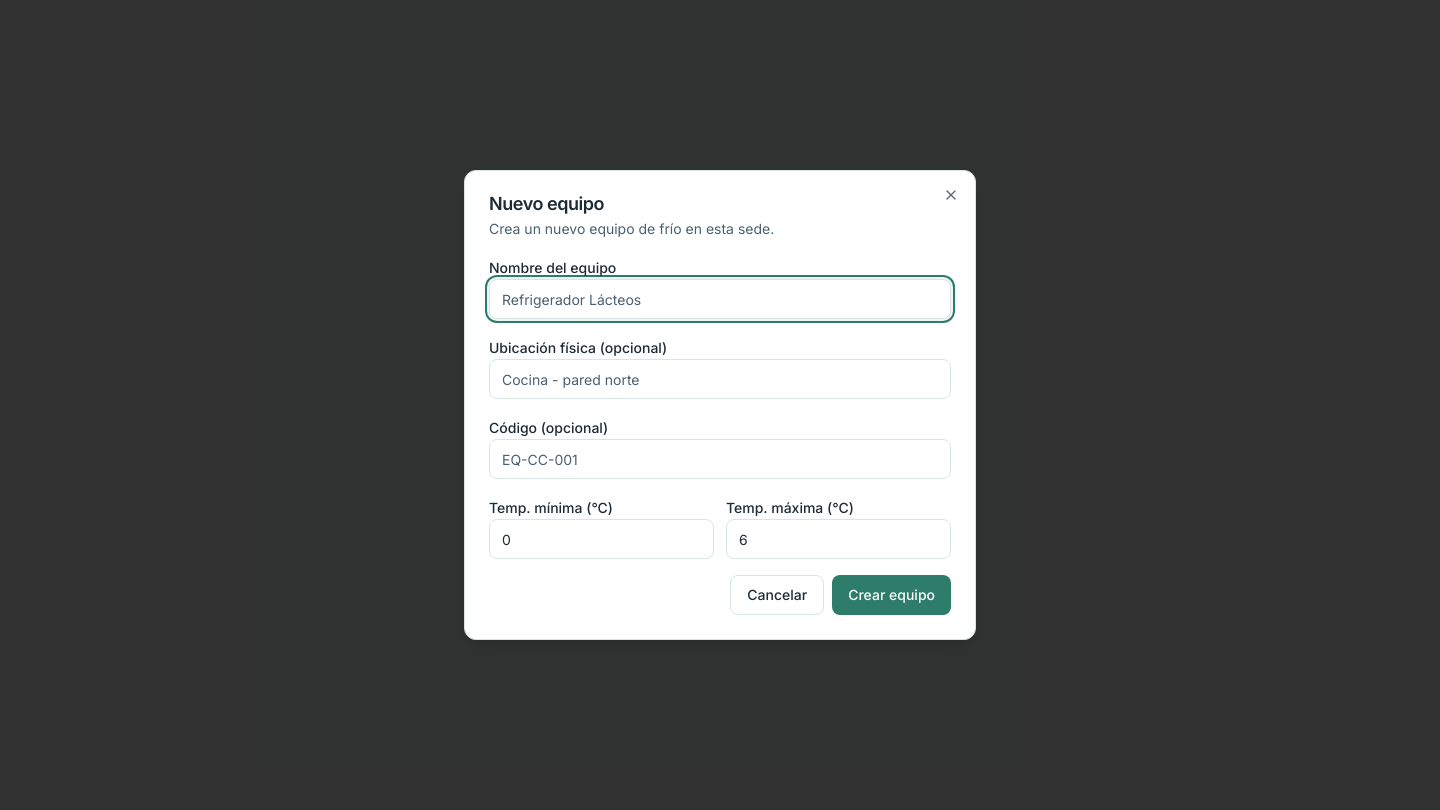
Test: EquipmentFormDialog - create mode › shows validation error when name is too short
The image size is (1440, 810).
In the field labelled "Nombre del equipo": (720, 299) [489,279,951,319], type "R"
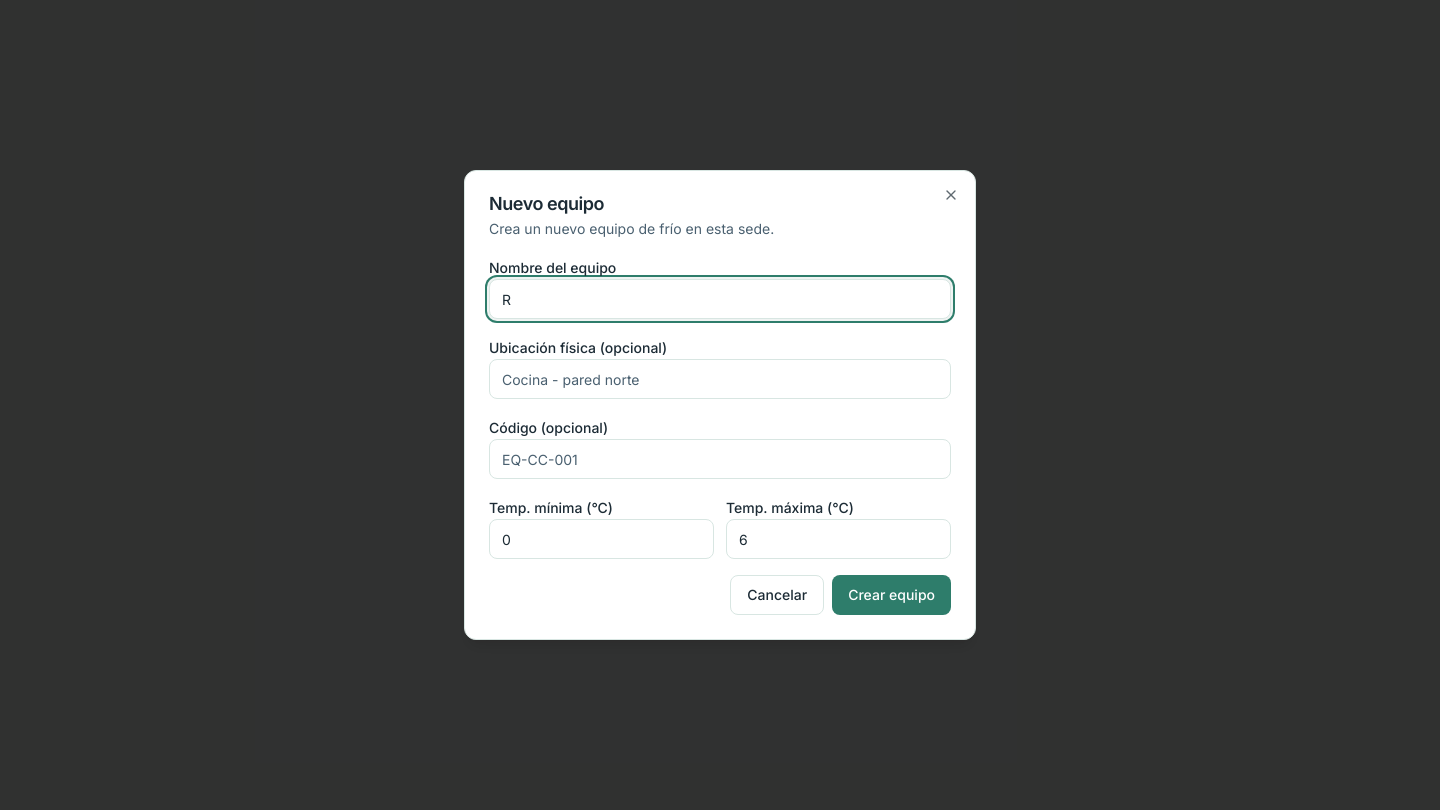
Click the button "Crear equipo": (892, 595) [832,575,951,615]
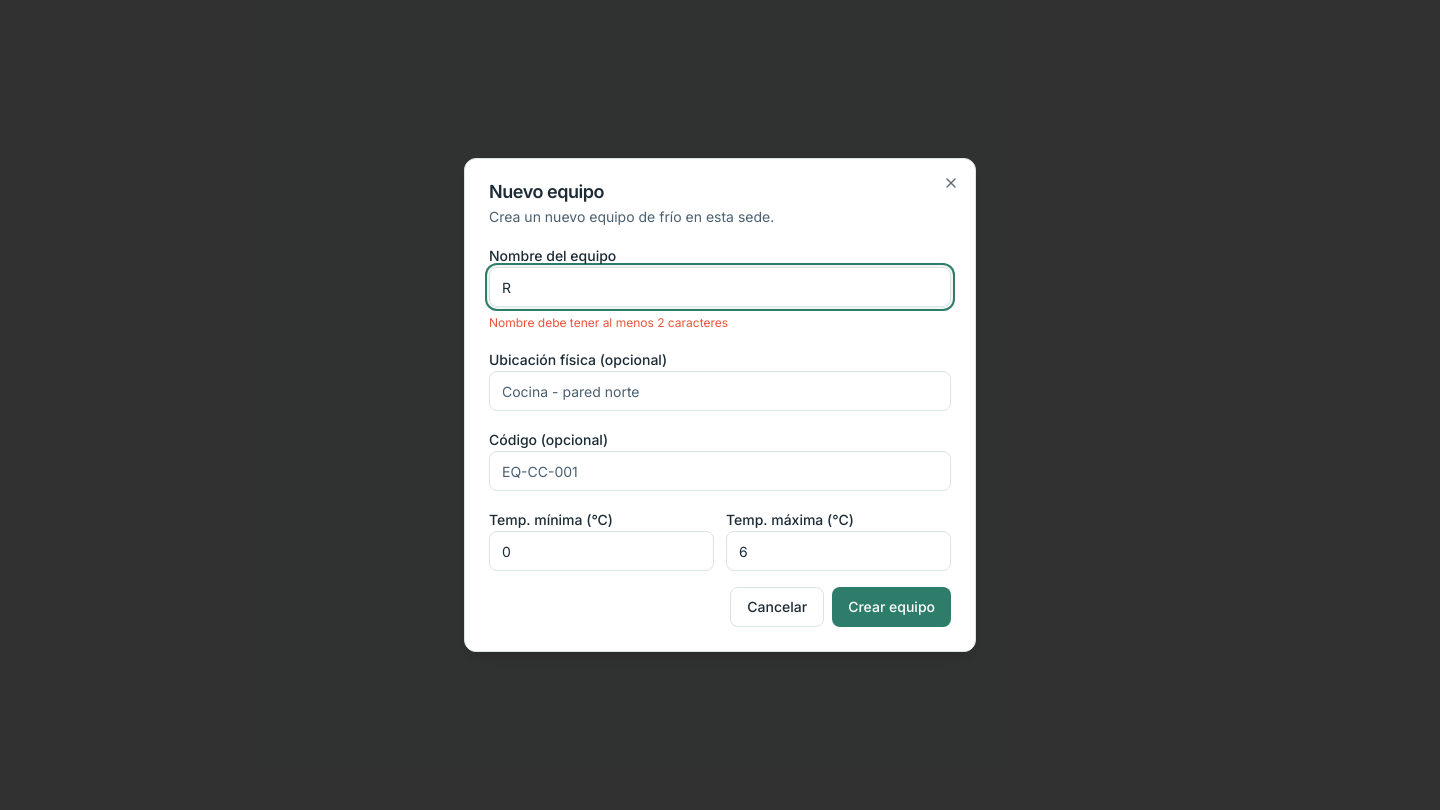
Check: the text "Nombre debe tener al menos 2 caracteres" is shown, box [489,315,728,330]
